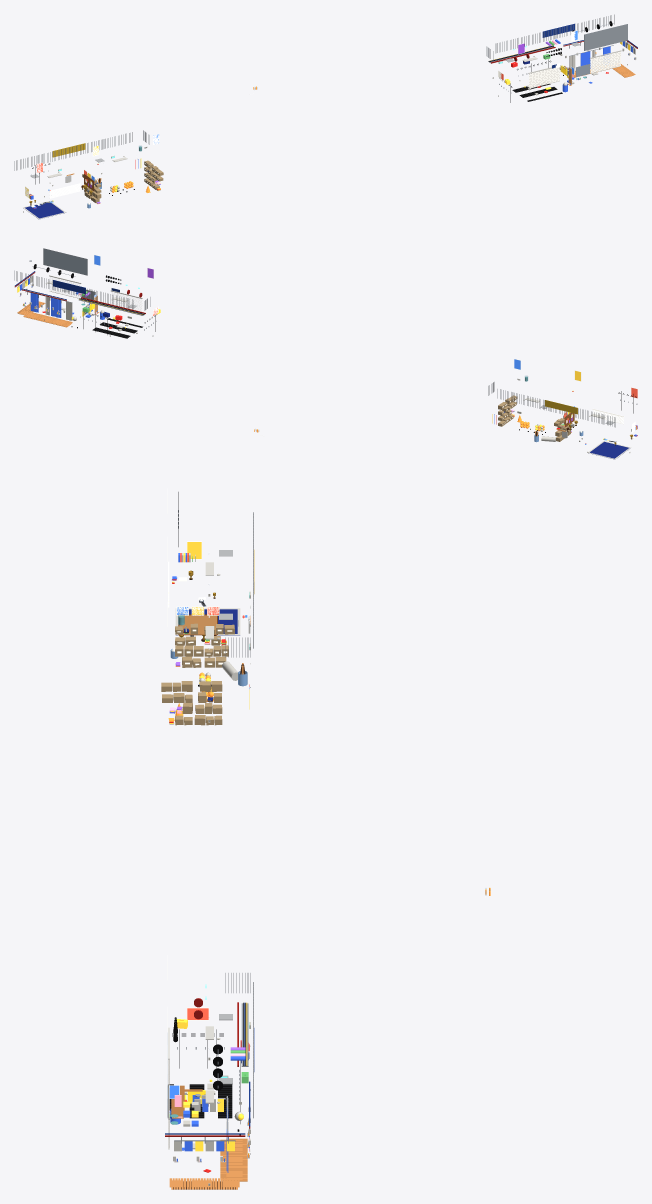
File: SM_Gym_Annex_NoCol.fbx
3 renders of one model, top to bottom at view 1: azimuth 30°, elevation 25°; view 2: azimuth 150°, elevation 25°; view 3: azimuth 270°, elevation 25°, orthographic. The views are drawn at different scales.
Visible parts, largest first — view 1: SM_Gym_Annex_NoCol; view 2: SM_Gym_Annex_NoCol; view 3: SM_Gym_Annex_NoCol.
Part boxes in pixels (bbox=[...]): SM_Gym_Annex_NoCol: bbox=[14, 14, 637, 219]; SM_Gym_Annex_NoCol: bbox=[14, 248, 637, 459]; SM_Gym_Annex_NoCol: bbox=[161, 488, 490, 1189].
Bounding box in the file's own units: 59.2 × 5.94 × 13.97.
